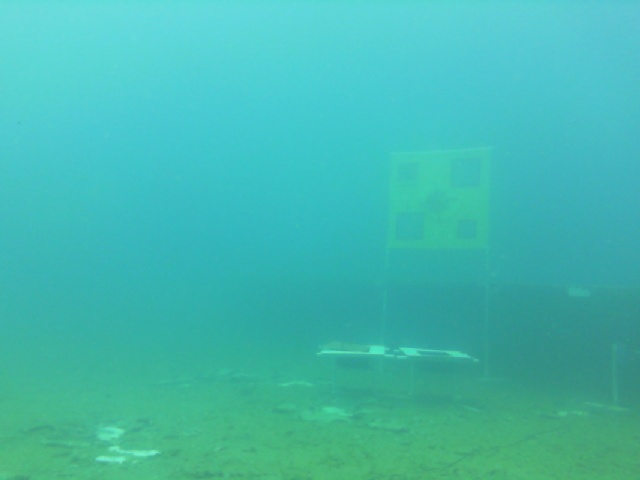torpedo_hole: (449, 158, 480, 187), (397, 214, 423, 240), (457, 220, 478, 240), (399, 160, 419, 179)
torpedo_target: (385, 147, 493, 255)
